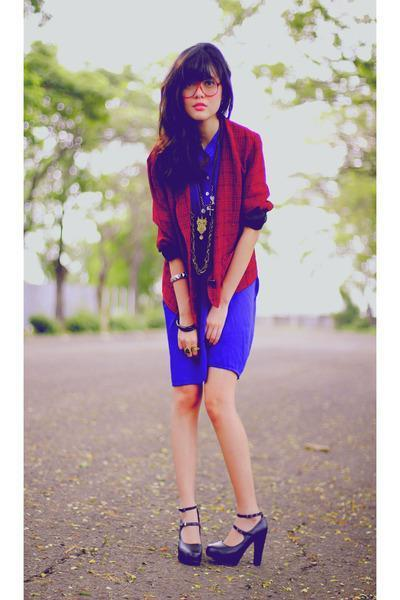dress: (164, 137, 258, 386)
jacket: (148, 120, 272, 315)
shoe: (180, 512, 267, 567)
